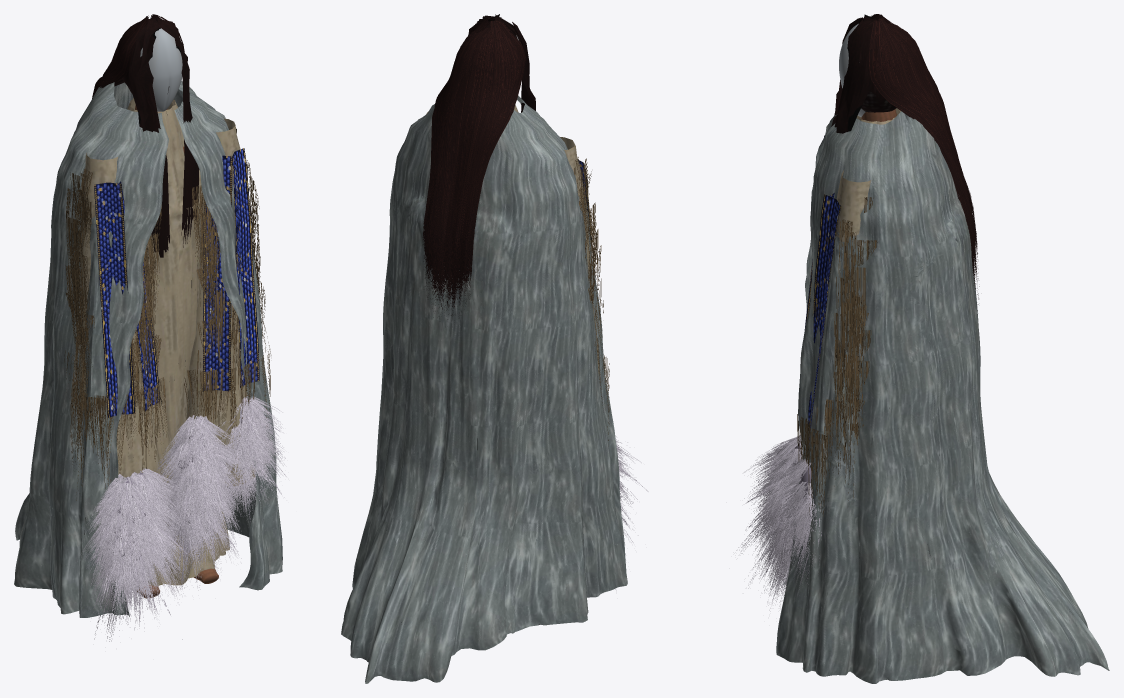
Rendered from eblis.glb.
3 views of the same model, side by side, from view 1: azimuth 30°, elevation 25°; view 2: azimuth 150°, elevation 25°; view 3: azimuth 270°, elevation 25° (orthographic). The views are drawn at different scales.
Visible parts, largest first — view 1: Cloak, FurCuffs, SuedeFringe, BeadPanels, Robe, HairBase, Sleeve, Sleeve.001, Mask, HairCards.002; view 2: Cloak, HairCards.002, HairCards.001, SuedeFringe, Sleeve, FurCuffs, HairCards; view 3: Cloak, SuedeFringe, FurCuffs, HairCards.001, HairBase, BeadPanels, Sleeve.001, HairCards.002.
Part boxes in pixels (x1,y1,x2,y2): Cloak: (14,81,282,617); FurCuffs: (77,396,286,641); SuedeFringe: (64,128,271,500); BeadPanels: (94,148,259,417); Robe: (127,98,229,585); HairBase: (128,17,199,257); Sleeve: (79,153,161,478); Sleeve.001: (186,118,255,486); Mask: (140,28,182,111); HairCards.002: (92,15,148,98); Cloak: (341,95,627,683); HairCards.002: (447,20,525,319); HairCards.001: (422,18,490,317); SuedeFringe: (574,157,609,440); Sleeve: (560,137,599,378); FurCuffs: (615,436,648,590); HairCards: (477,21,535,112); Cloak: (776,111,1109,683); SuedeFringe: (797,197,877,544); FurCuffs: (736,435,821,611); HairCards.001: (868,18,978,310); HairBase: (831,14,879,133); BeadPanels: (804,135,840,444); Sleeve.001: (816,170,871,426); HairCards.002: (873,14,979,294).
Bounding box in the file's own units: 0.8858 × 2.09 × 1.12.
Materials: 6 (6 with a texture image).
